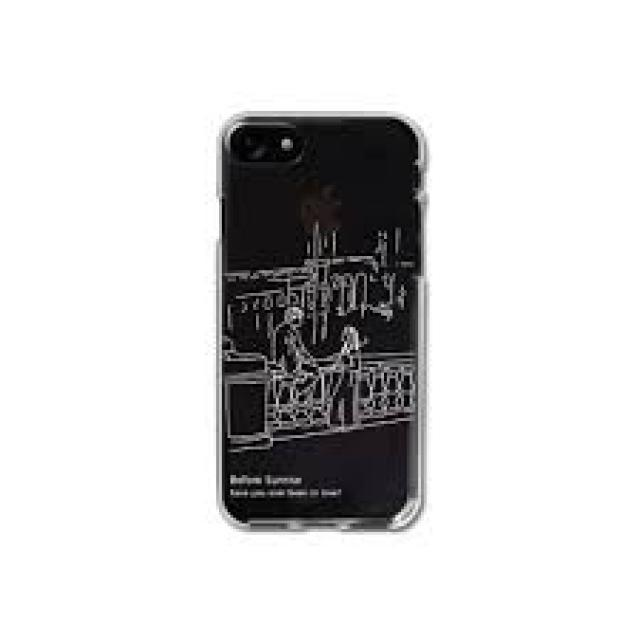phone: (212, 104, 432, 540)
